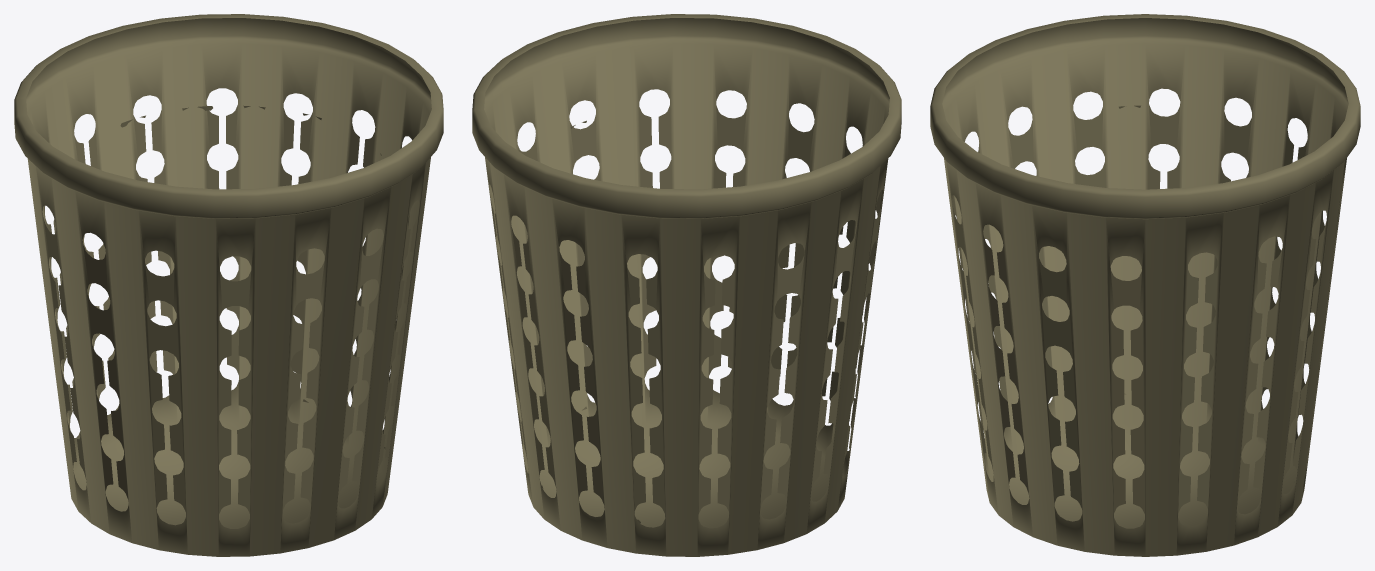
Rendered from laundry basket.glb.
3 renders of one model, left to right at view 1: azimuth 30°, elevation 25°; view 2: azimuth 150°, elevation 25°; view 3: azimuth 270°, elevation 25°, orthographic.
Parts seen in each view (by area): view 1: Cylinder.004; view 2: Cylinder.004; view 3: Cylinder.004.
Part boxes in pixels (box(x1,y1,x2,y2)): Cylinder.004: box(14, 14, 443, 556); Cylinder.004: box(472, 14, 901, 556); Cylinder.004: box(930, 14, 1360, 556).
Bounding box in the file's own units: 0.4998 × 0.4948 × 0.4998.
